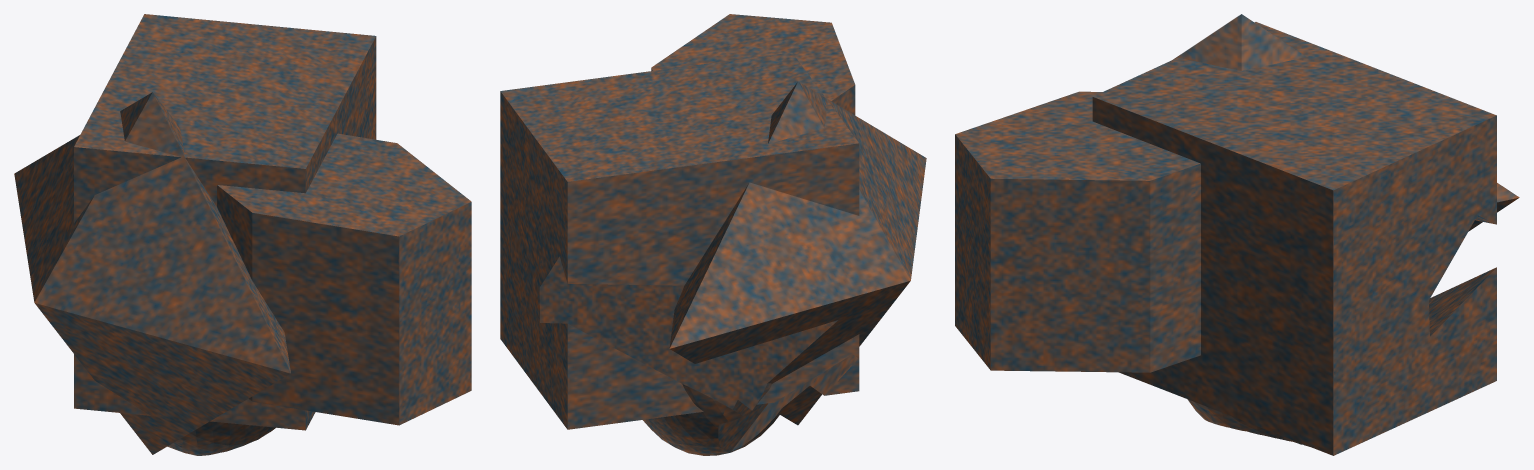
The picture shows the model from 3 angles, left to right: view 1: azimuth 30°, elevation 25°; view 2: azimuth 150°, elevation 25°; view 3: azimuth 270°, elevation 25°; orthographic projection. The views are drawn at different scales.
Parts seen in each view (by area): view 1: geometry_0; view 2: geometry_0; view 3: geometry_0.
Boxes of the visible parts, x1,y1,x2,y2 form: geometry_0: (14,14,471,455); geometry_0: (500,14,926,455); geometry_0: (955,14,1519,455).
Bounding box in the file's own units: 1.45 × 1.39 × 1.8.
1 material, 1 textured.
